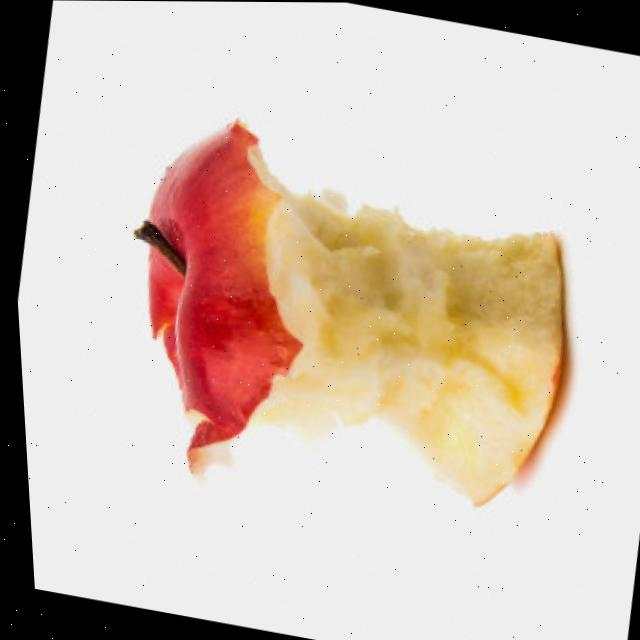Wet: (81, 98, 597, 538)
